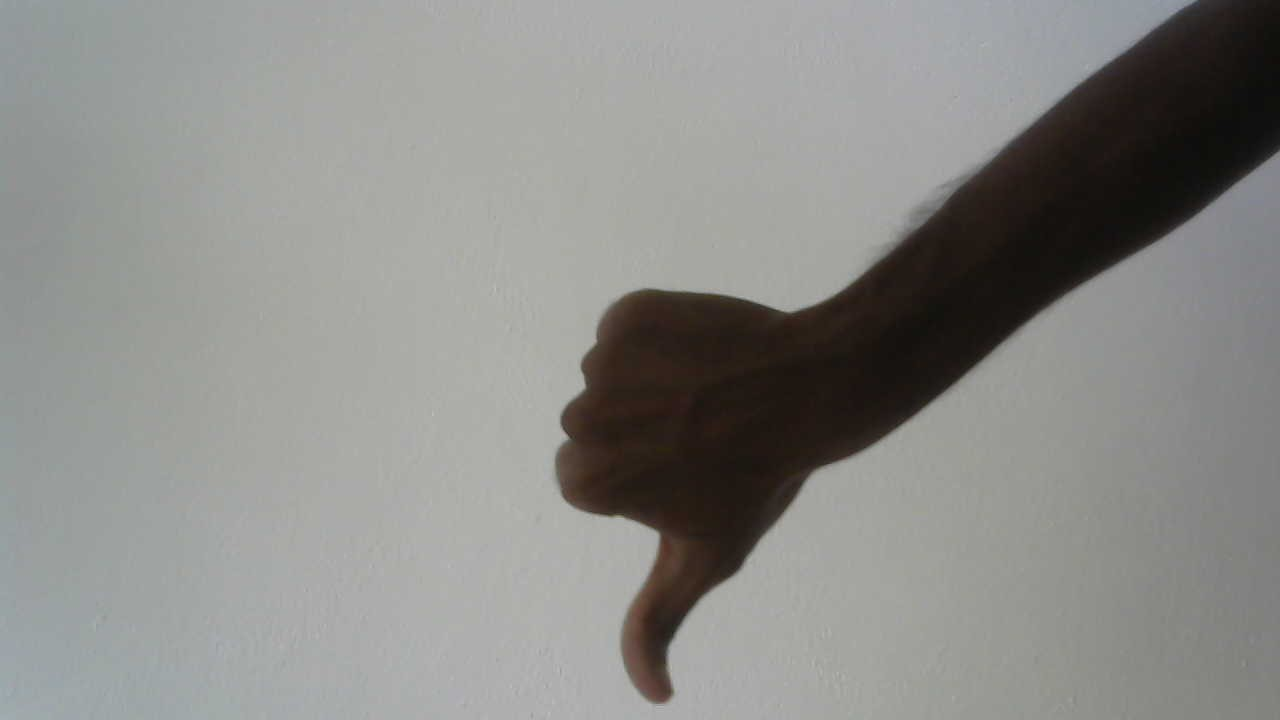thumbsdown: (543, 271, 841, 719)
